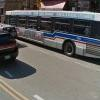Bus: (5, 5, 99, 56)
